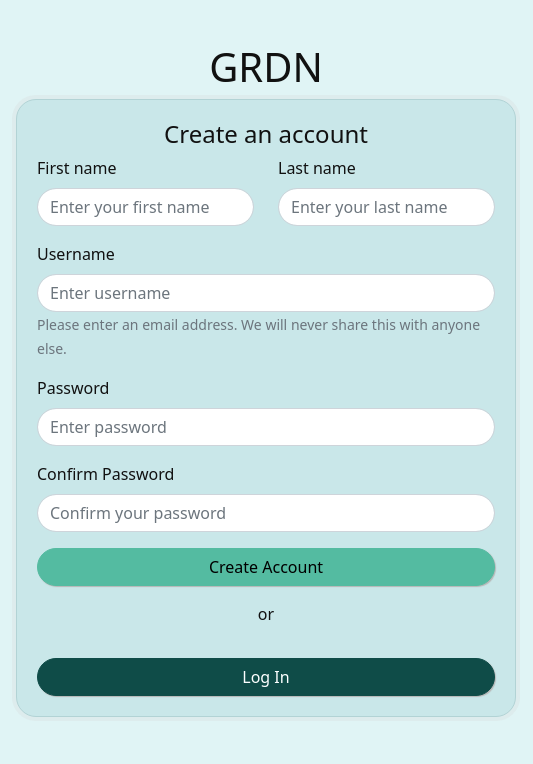
Test: Create-Account › If email exists throw a error message to say account exists already
This screenshot has width=533, height=764.
Type "James" into the field labelled "First name" at {"x": 146, "y": 207}, box [37,188,254,226]
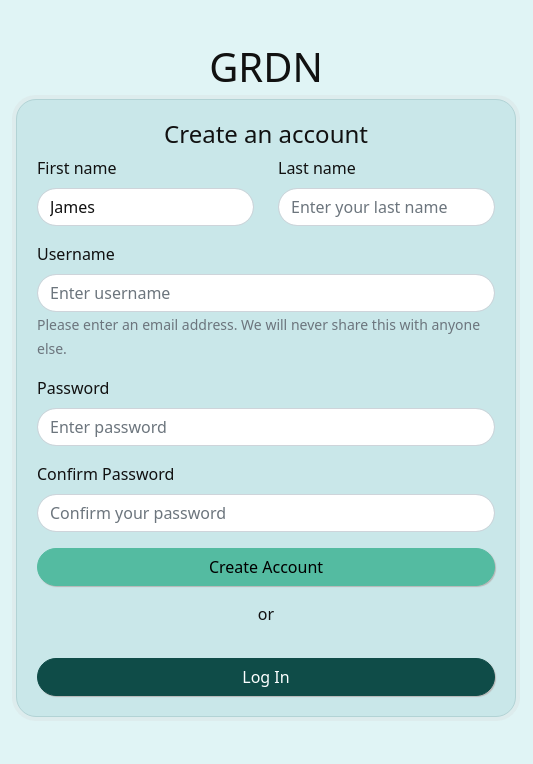
Type "Arthur" into the field labelled "Last name" at {"x": 386, "y": 207}, box [278,188,495,226]
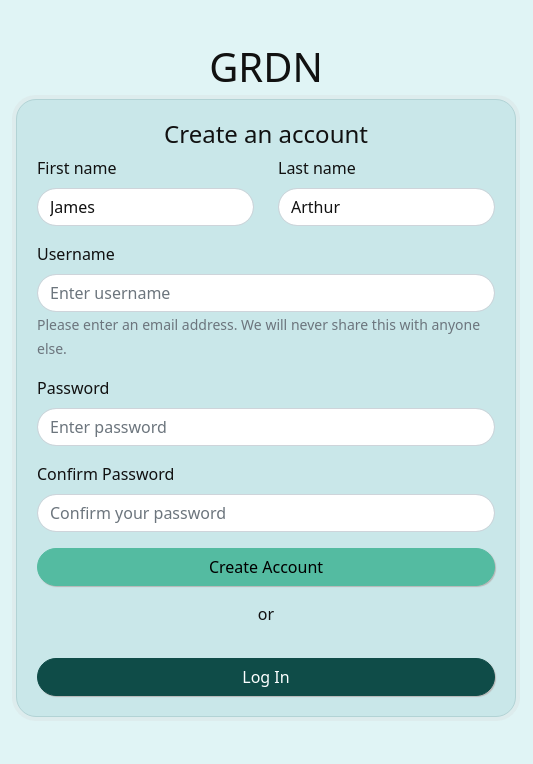
Type "user@email.com" into the field labelled "Username" at {"x": 266, "y": 293}, box [37,274,495,312]
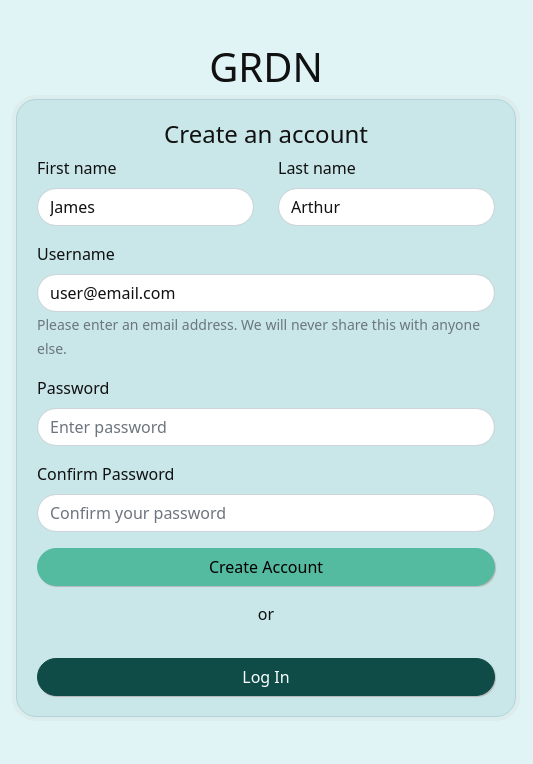
Type "password" into the password field labelled "Password" at {"x": 266, "y": 427}, box [37,408,495,446]
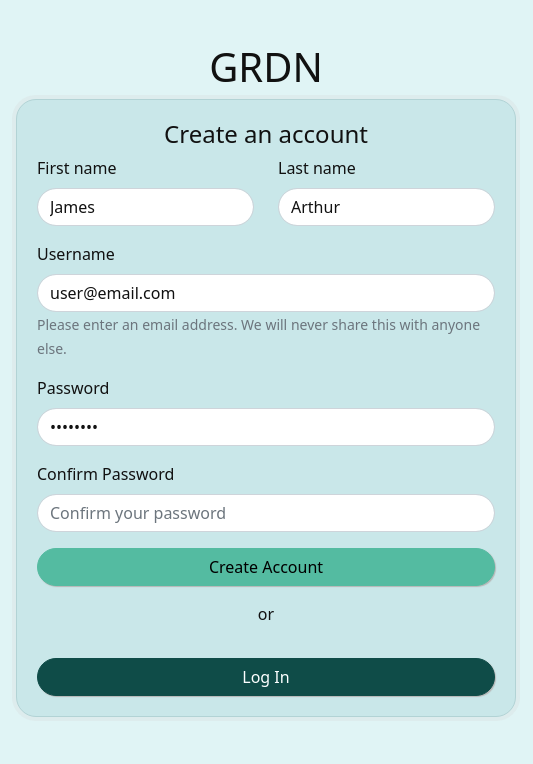
Type "password" into the password field labelled "Confirm Password" at {"x": 266, "y": 513}, box [37,494,495,532]
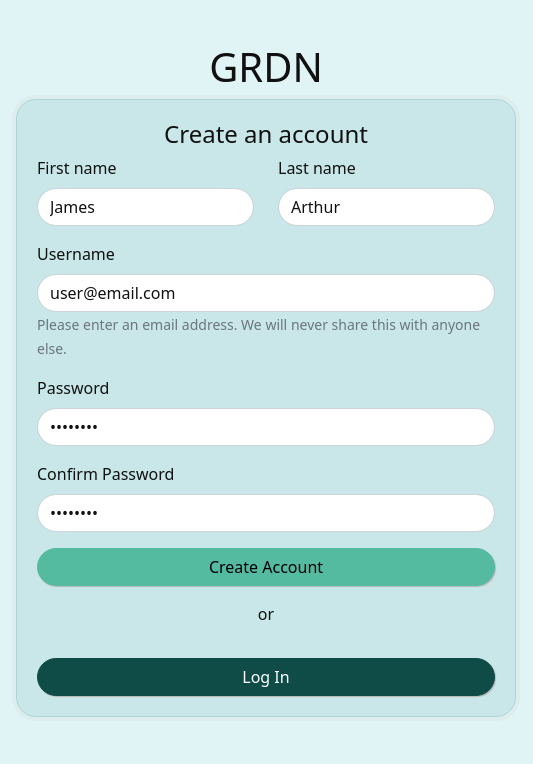
Click the button "Create Account" at {"x": 266, "y": 567}, box [37,548,495,586]
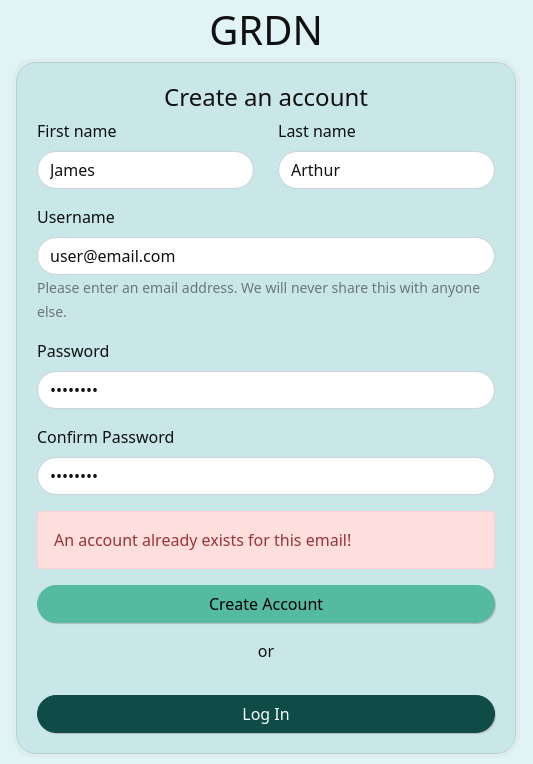
Check: the text "An account already exists for this email!" is shown, box [37,511,495,569]
